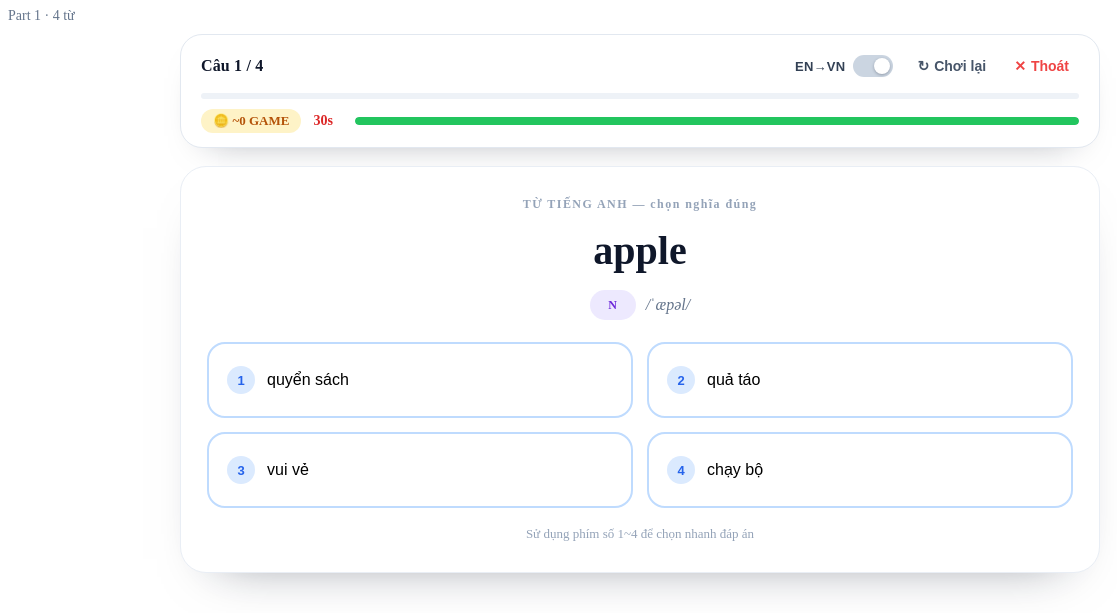
Scenario: vocab game page › enter ngay sau khi chon dap an khong nhay qua 2 cau
Expected: the text "Câu 1 / 4" is shown, [201, 57, 263, 74]
Click the button "1 quyển sách" at coordinates (308, 380), box [207, 342, 633, 418]
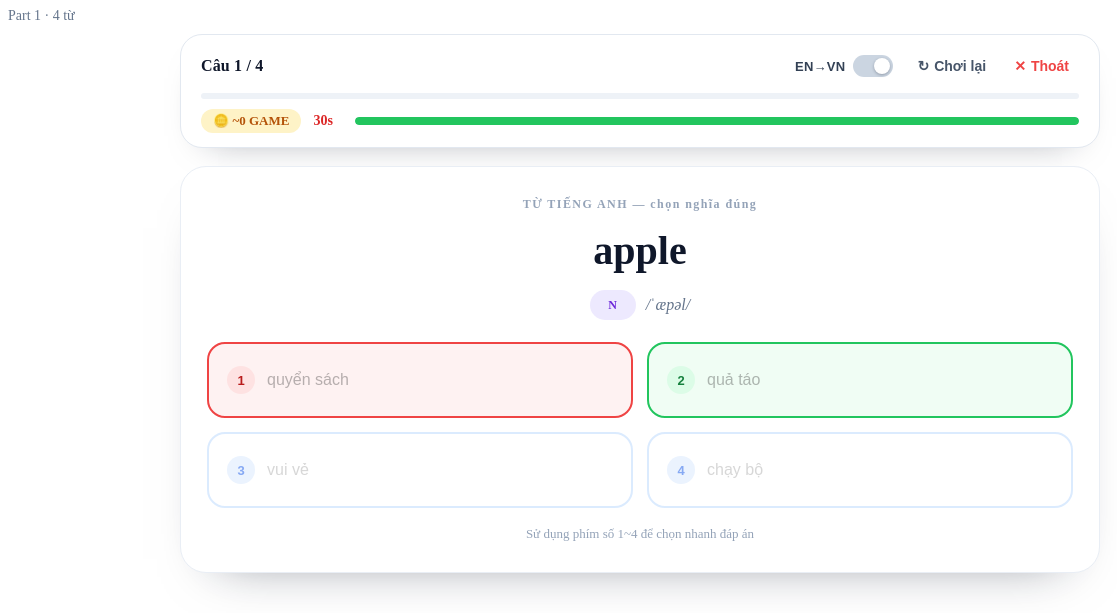
Press Enter
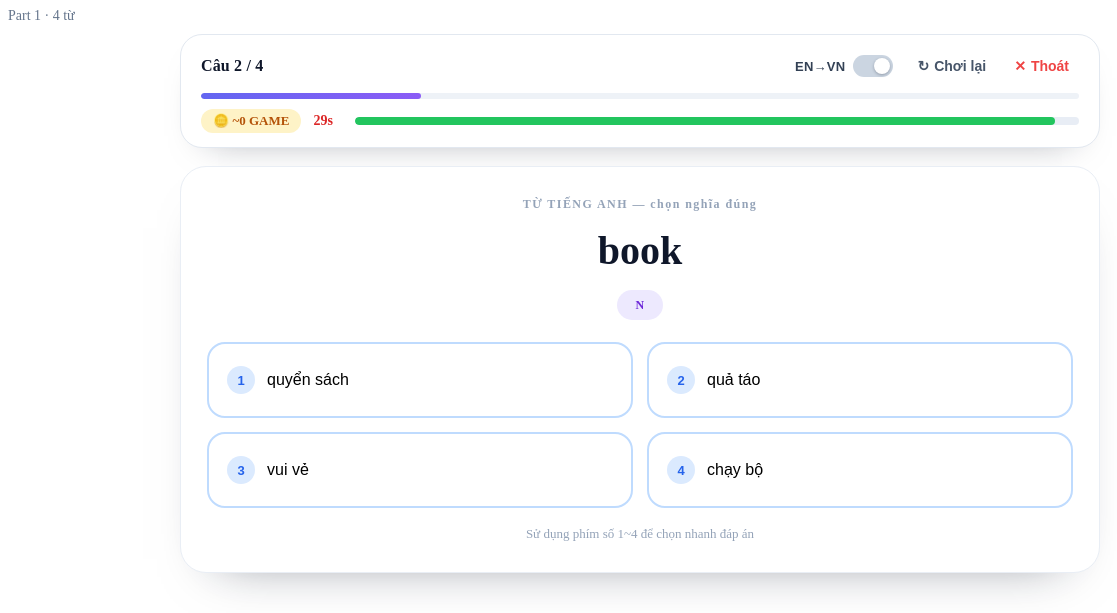
Expected: the text "Câu 2 / 4" is shown, [201, 57, 263, 74]
